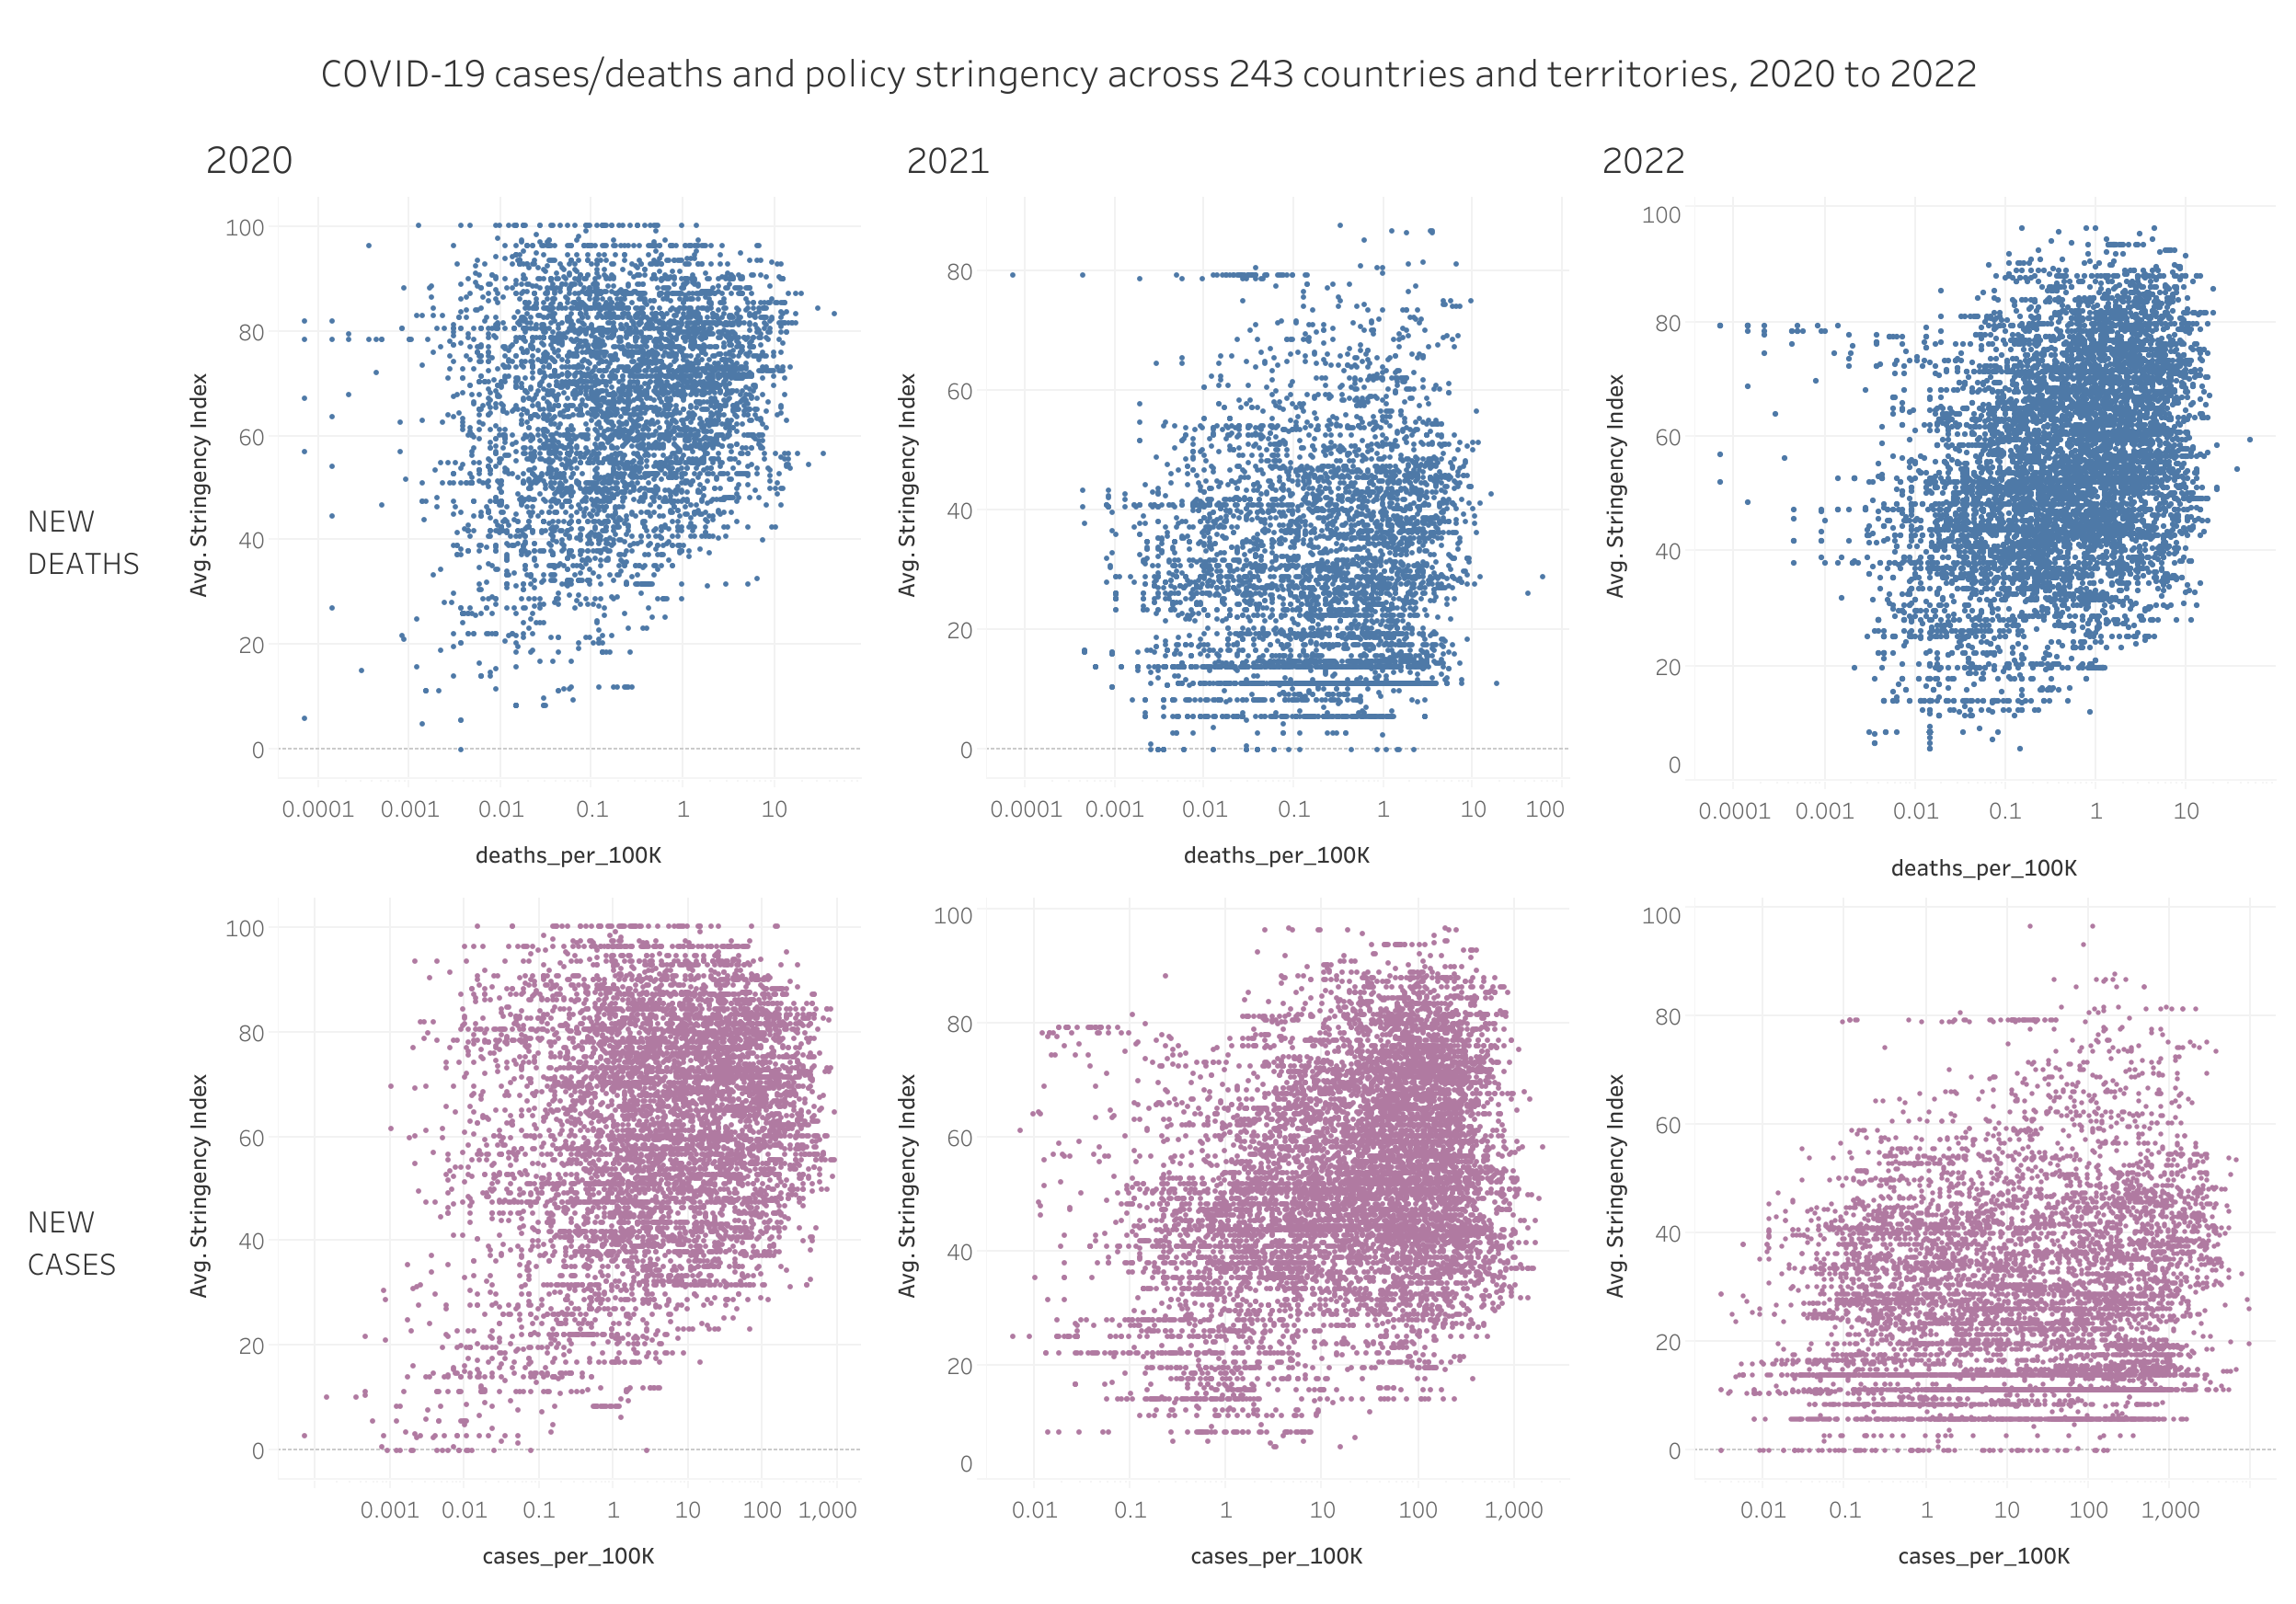

Layout of this report page (visuals, bound fields, positions):
{"tool":"tableau","page":{"name":"Dashboard 2","canvas":[1000,1000],"units":"permille","ordinal":1},"visuals":[{"type":"text","box":[7.6,9.3,984.8,70.4]},{"type":"text","box":[84.9,79.7,305,38.9]},{"type":"text","box":[389.9,79.7,301.2,38.9]},{"type":"text","box":[691.2,79.7,301.2,38.9]},{"type":"text","box":[7.6,118.6,75.1,436.1]},{"type":"worksheet","title":"Sheet 6","mark":"Automatic","rows":["stringency_index"],"cols":["deaths_per_100K"],"box":[82.7,118.6,303.2,436.1]},{"type":"worksheet","title":"Sheet 6 (3)","mark":"Automatic","rows":["stringency_index"],"cols":["deaths_per_100K"],"box":[385.9,118.6,303.2,436.1]},{"type":"worksheet","title":"Sheet 6 (2)","mark":"Automatic","rows":["stringency_index"],"cols":["deaths_per_100K"],"box":[689.2,118.6,303.2,436.1]},{"type":"text","box":[7.6,554.6,75.1,436.1]},{"type":"worksheet","title":"Sheet 6 (4)","mark":"Automatic","rows":["stringency_index"],"cols":["cases_per_100K"],"box":[82.7,554.6,303.2,436.1]},{"type":"worksheet","title":"Sheet 6 (5)","mark":"Automatic","rows":["stringency_index"],"cols":["cases_per_100K"],"box":[385.9,554.6,303.2,436.1]},{"type":"worksheet","title":"Sheet 6 (6)","mark":"Automatic","rows":["stringency_index"],"cols":["cases_per_100K"],"box":[689.2,554.6,303.2,436.1]}]}

Visuals, with their boxes on the dashboard's canvas, which has no fixed pixel size, in thousandths of its width and height (x1, y1, x2, y2). These are canvas units, not pixel positions in the 2296x1604 screenshot, which may show the page scaled, cropped or inside an application window:
text: {"left": 8, "top": 9, "right": 992, "bottom": 80}
text: {"left": 85, "top": 80, "right": 390, "bottom": 119}
text: {"left": 390, "top": 80, "right": 691, "bottom": 119}
text: {"left": 691, "top": 80, "right": 992, "bottom": 119}
text: {"left": 8, "top": 119, "right": 83, "bottom": 555}
"Sheet 6" worksheet: {"left": 83, "top": 119, "right": 386, "bottom": 555}
"Sheet 6 (3)" worksheet: {"left": 386, "top": 119, "right": 689, "bottom": 555}
"Sheet 6 (2)" worksheet: {"left": 689, "top": 119, "right": 992, "bottom": 555}
text: {"left": 8, "top": 555, "right": 83, "bottom": 991}
"Sheet 6 (4)" worksheet: {"left": 83, "top": 555, "right": 386, "bottom": 991}
"Sheet 6 (5)" worksheet: {"left": 386, "top": 555, "right": 689, "bottom": 991}
"Sheet 6 (6)" worksheet: {"left": 689, "top": 555, "right": 992, "bottom": 991}
